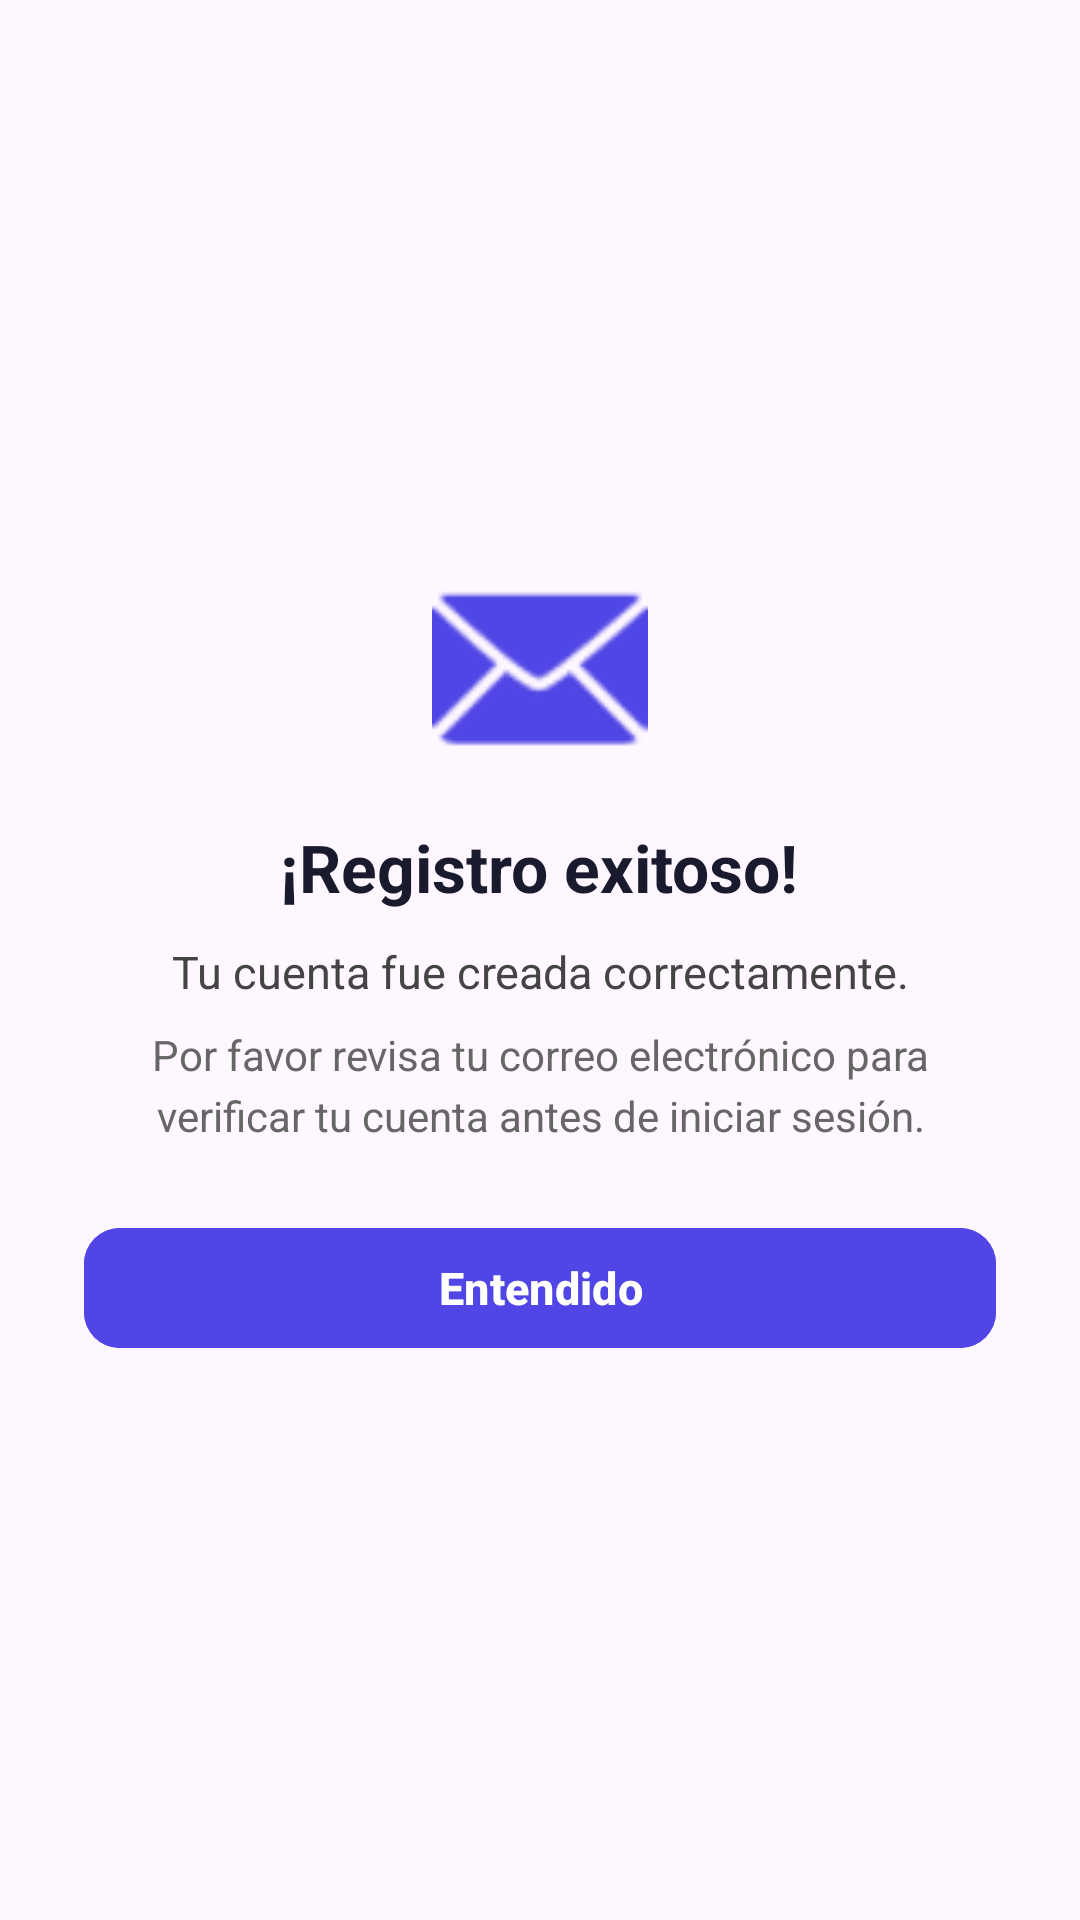

Where icons sit on this 1080 × 1920 app screen, as {"x1": x1, "y1": y1, "x2": x2, "y2": y2}:
email: {"x1": 432, "y1": 592, "x2": 648, "y2": 746}
